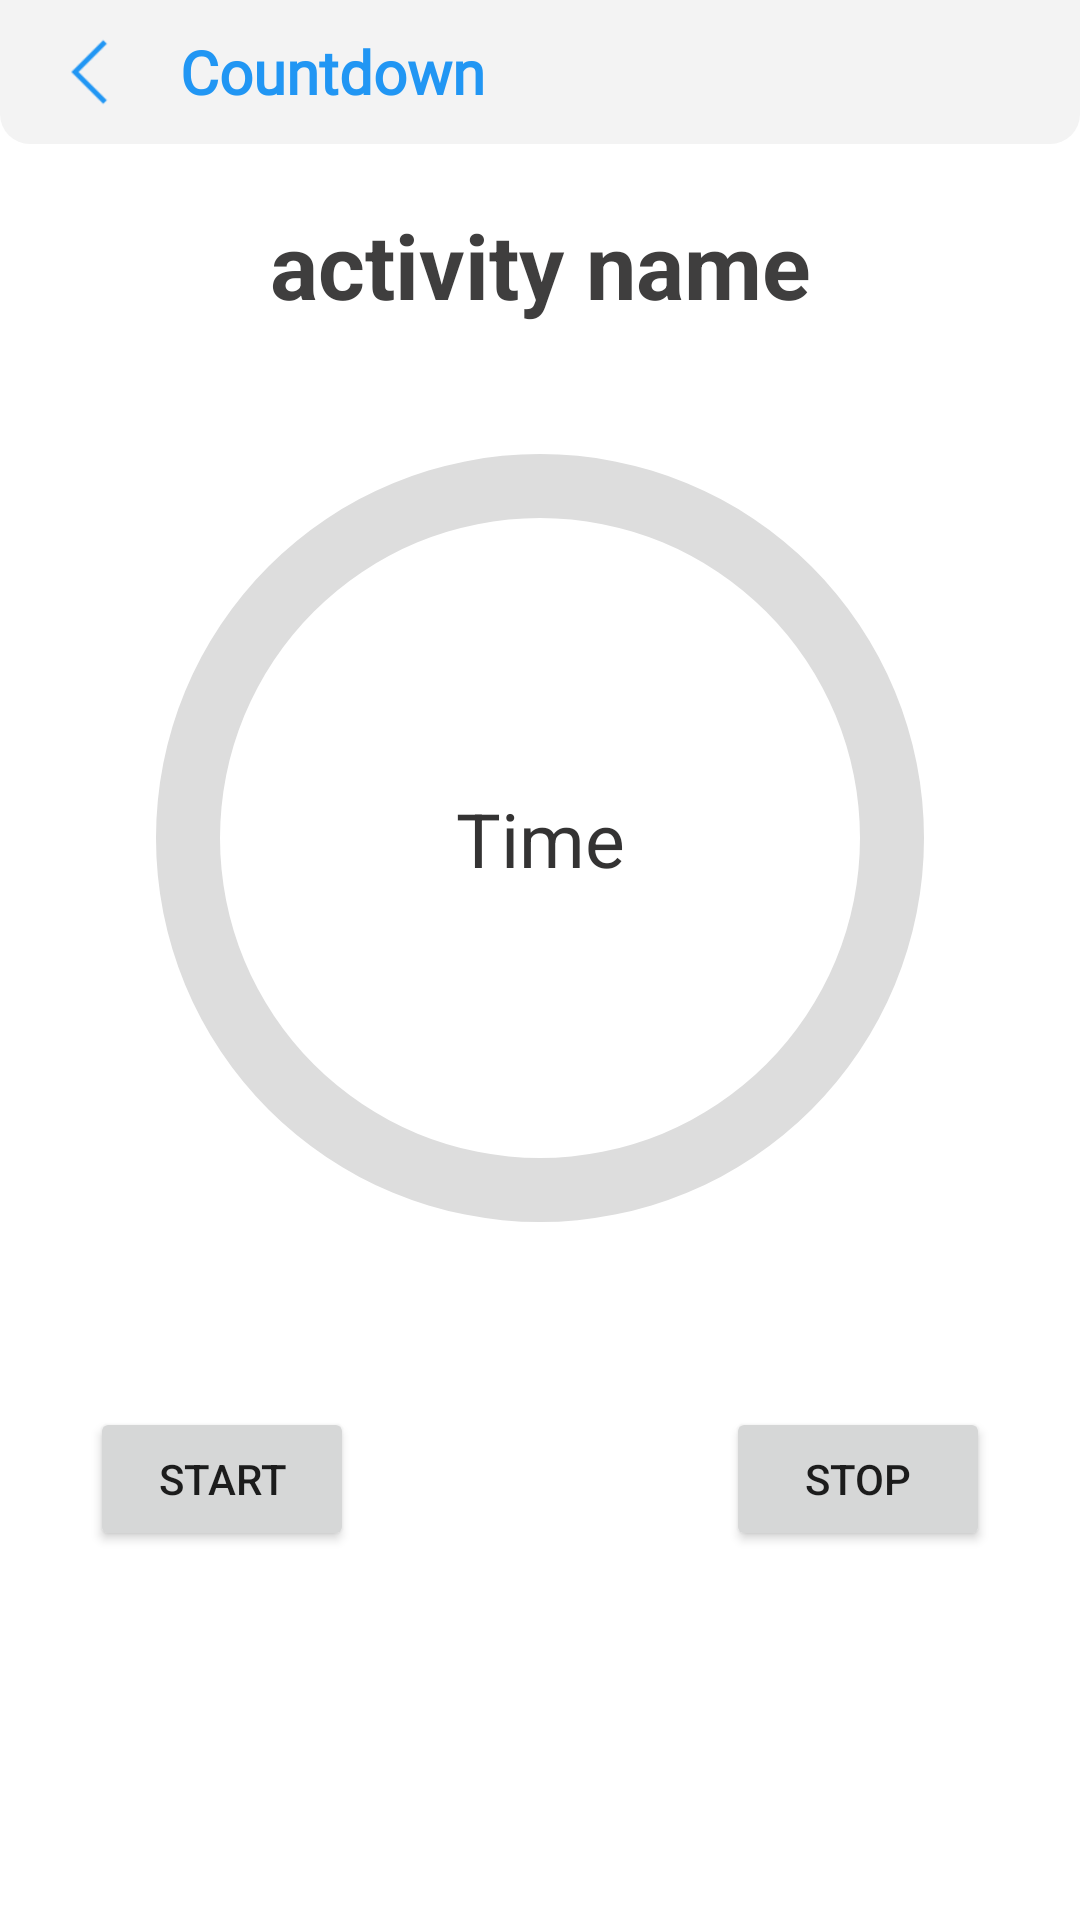

Named icons in this screenshot (1080w x 1920h) and their centers, point (x, y):
back: point (89, 72)
